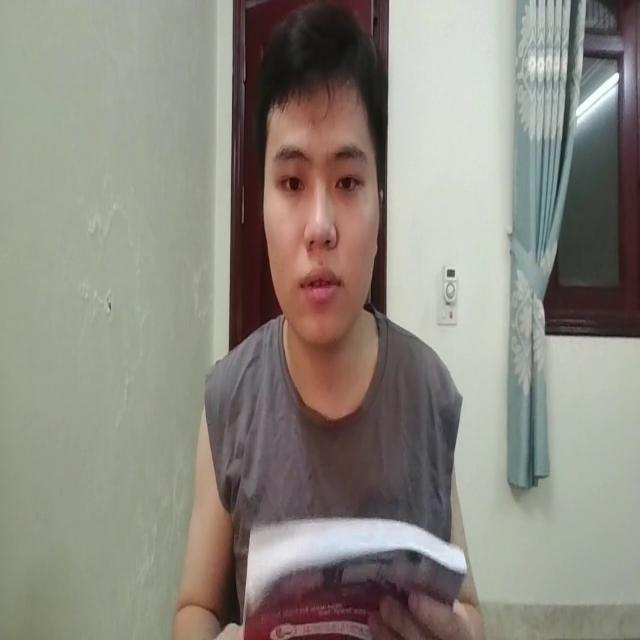book: (235, 489, 472, 640)
student: (174, 0, 487, 640)
